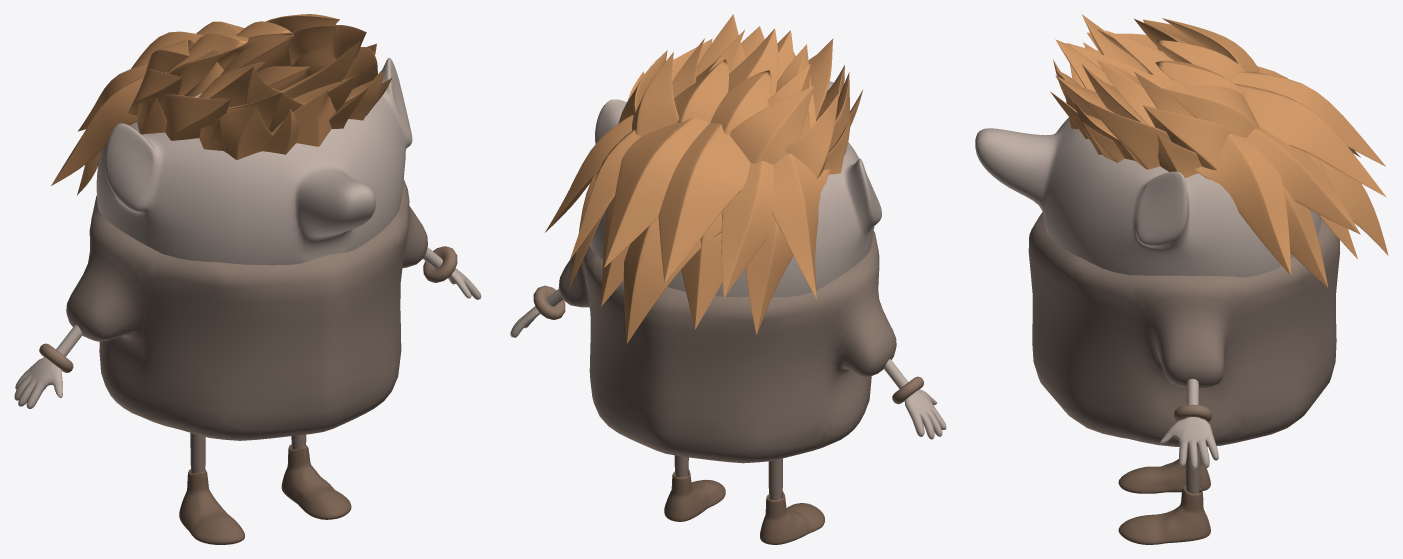
File: BobbaModel.fbx
3 views of the same model, side by side, from view 1: azimuth 30°, elevation 25°; view 2: azimuth 150°, elevation 25°; view 3: azimuth 270°, elevation 25° (orthographic). The views are drawn at different scales.
Parts seen in each view (by area): view 1: stick:polySurface12; view 2: stick:polySurface12; view 3: stick:polySurface12.
Part boxes in pixels (bbox=[...]): stick:polySurface12: bbox=[14, 14, 481, 544]; stick:polySurface12: bbox=[510, 14, 946, 544]; stick:polySurface12: bbox=[975, 14, 1388, 544].
Size of the model in its own units: 2.88 by 3.01 by 2.35.
